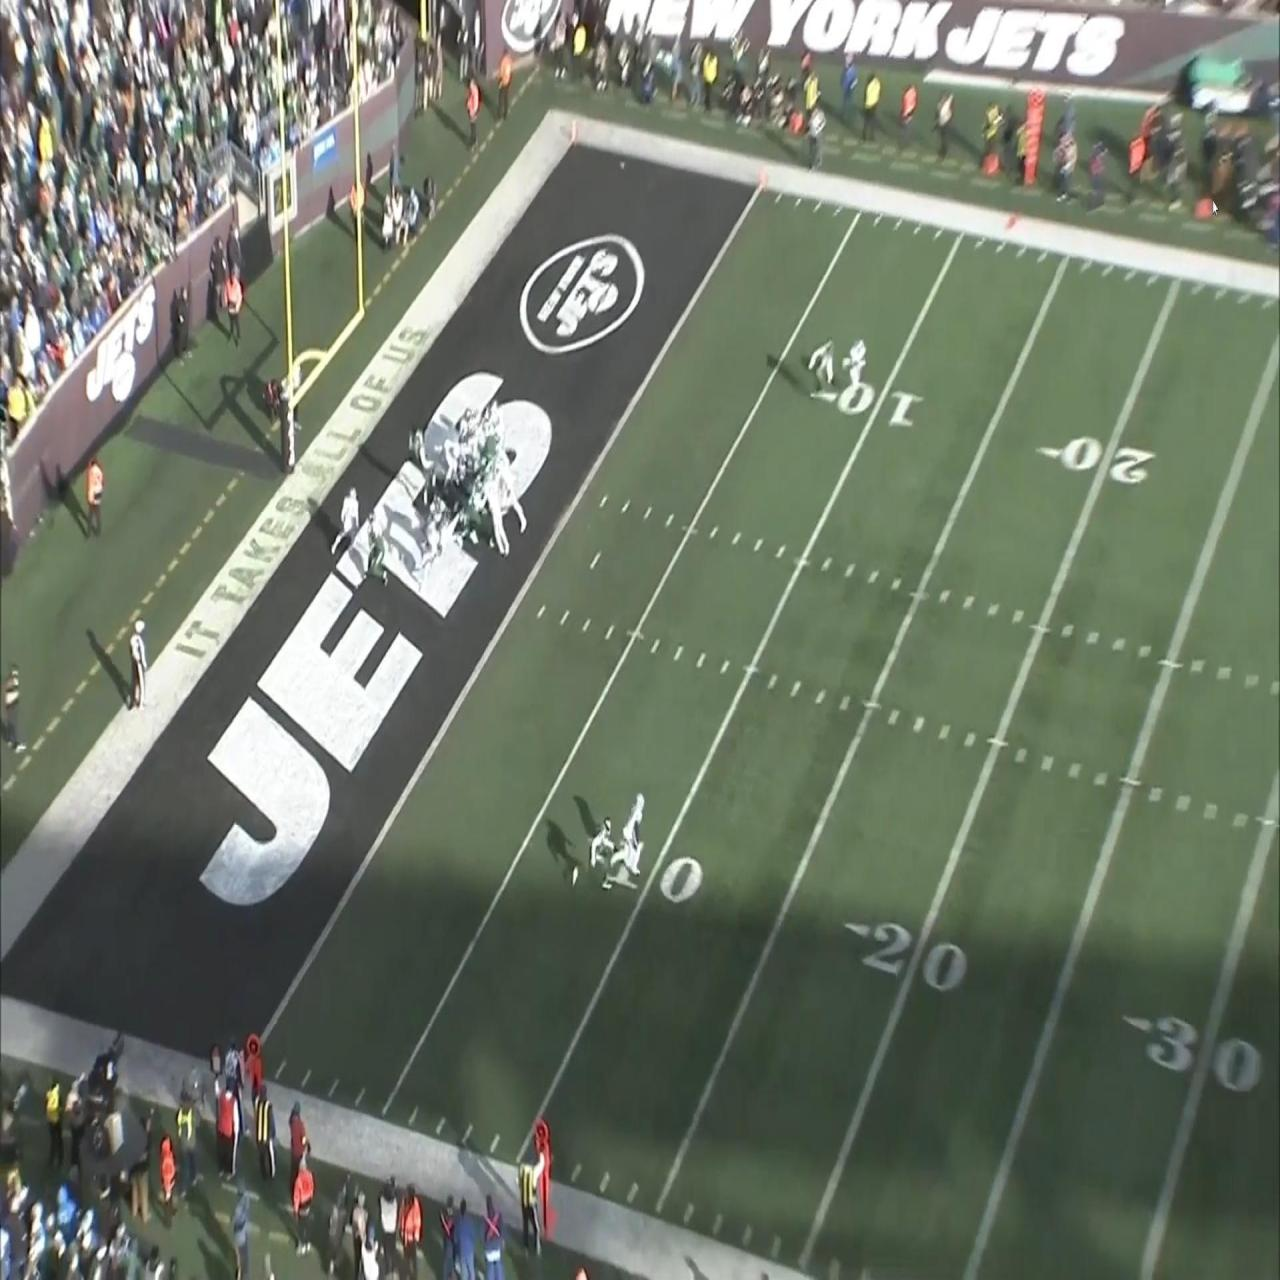10L: (588, 836, 703, 904), (810, 380, 924, 429)
20L: (844, 918, 968, 992), (1033, 433, 1156, 483)
30L: (1121, 1010, 1262, 1092)
